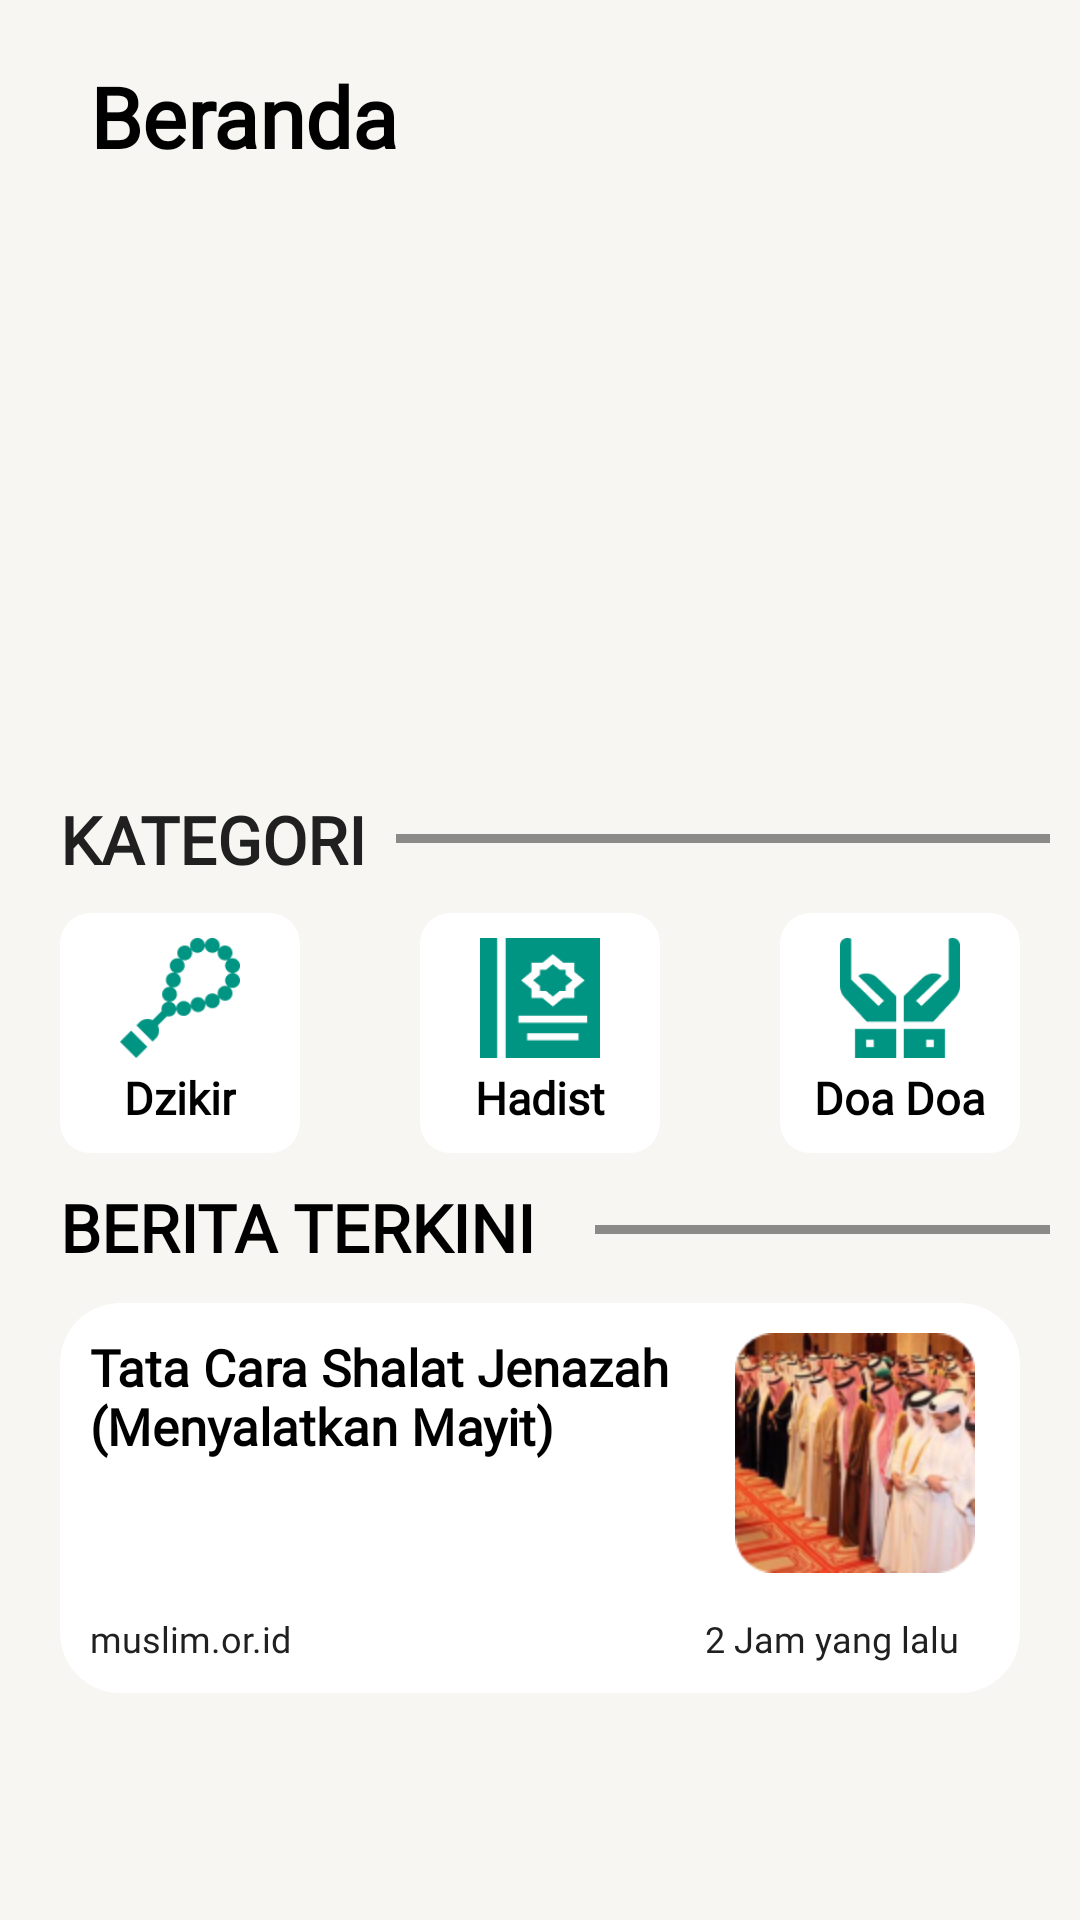

Icon click points for this 1080*1920 phone screenshot, format (x=x, y=y):
quran: (x=540, y=998)
tasbih: (x=180, y=998)
